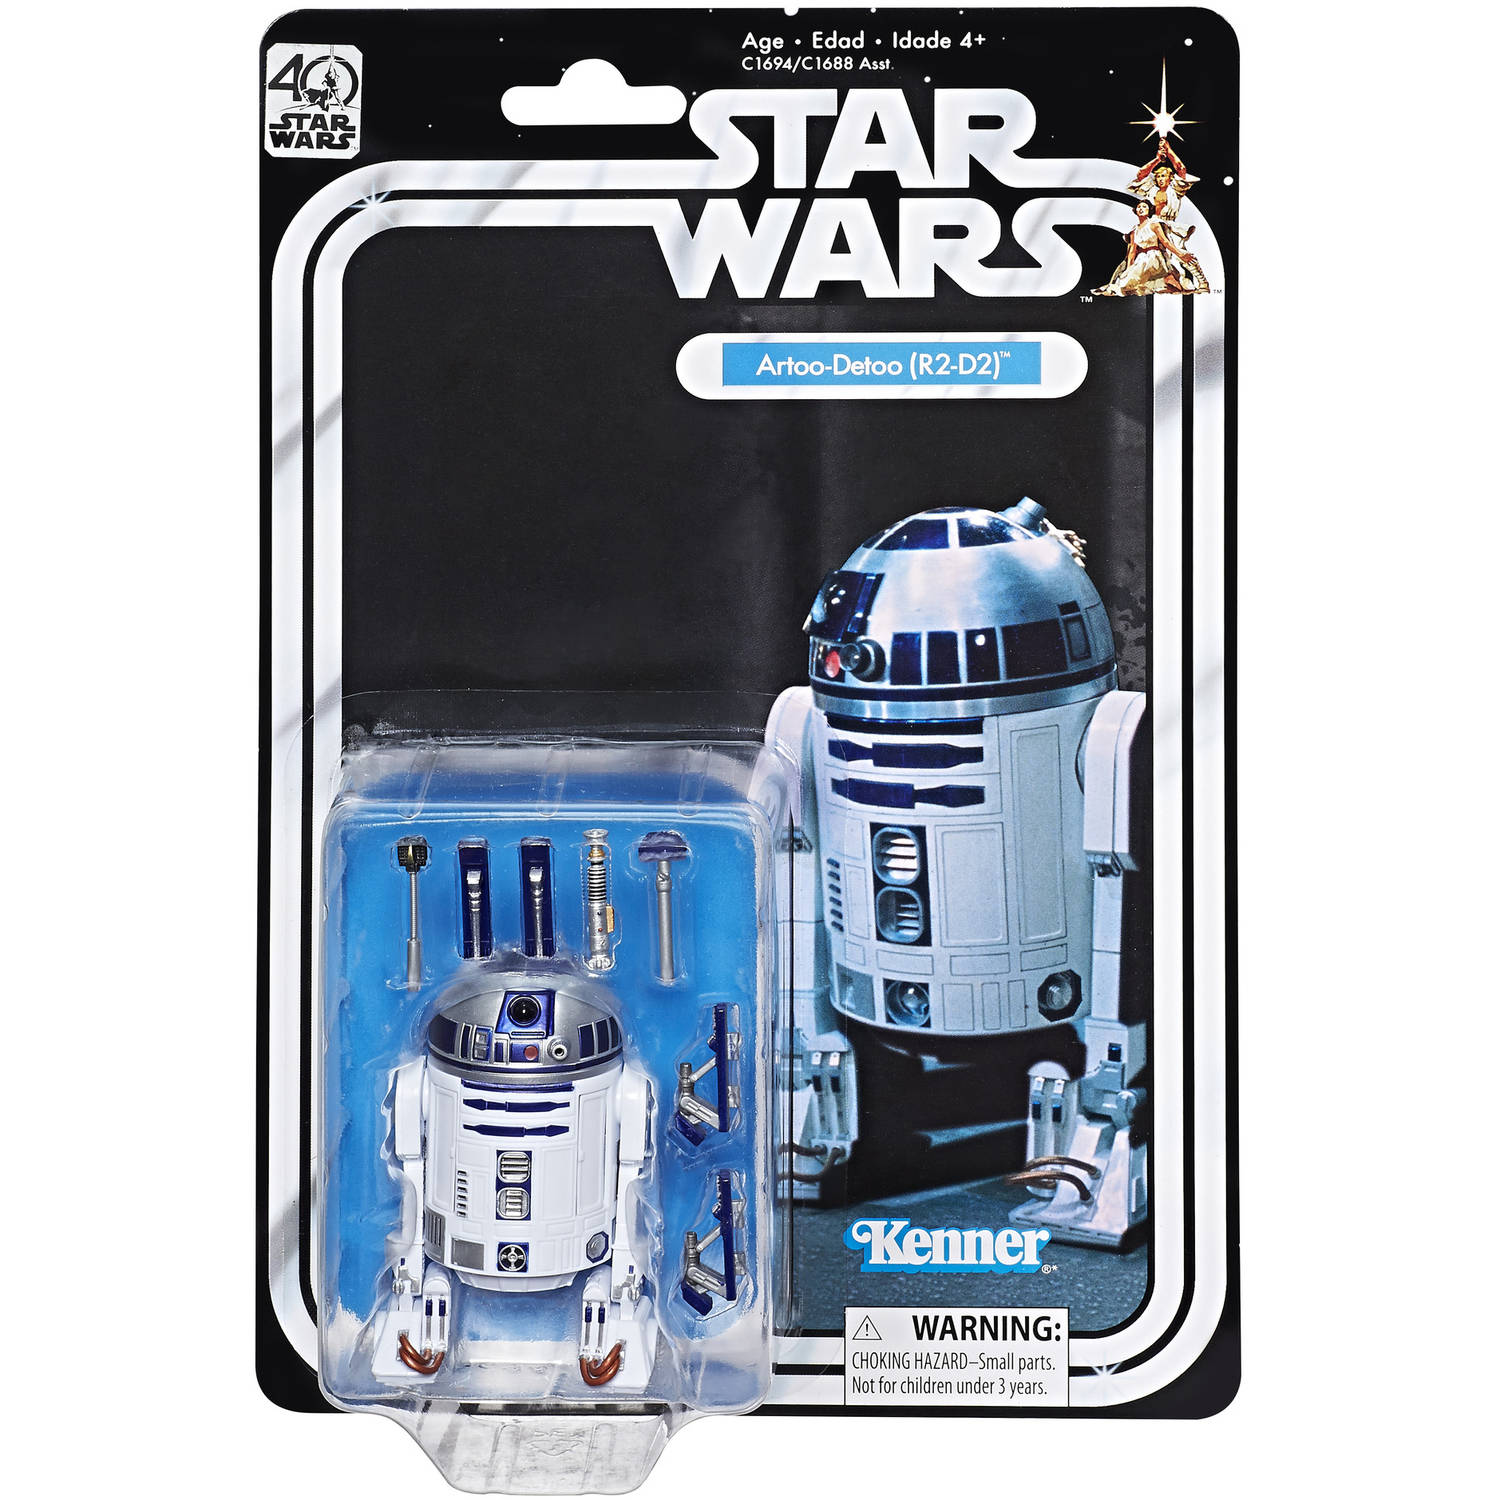r2d2: (760, 501, 1152, 1246), (374, 959, 668, 1391)
